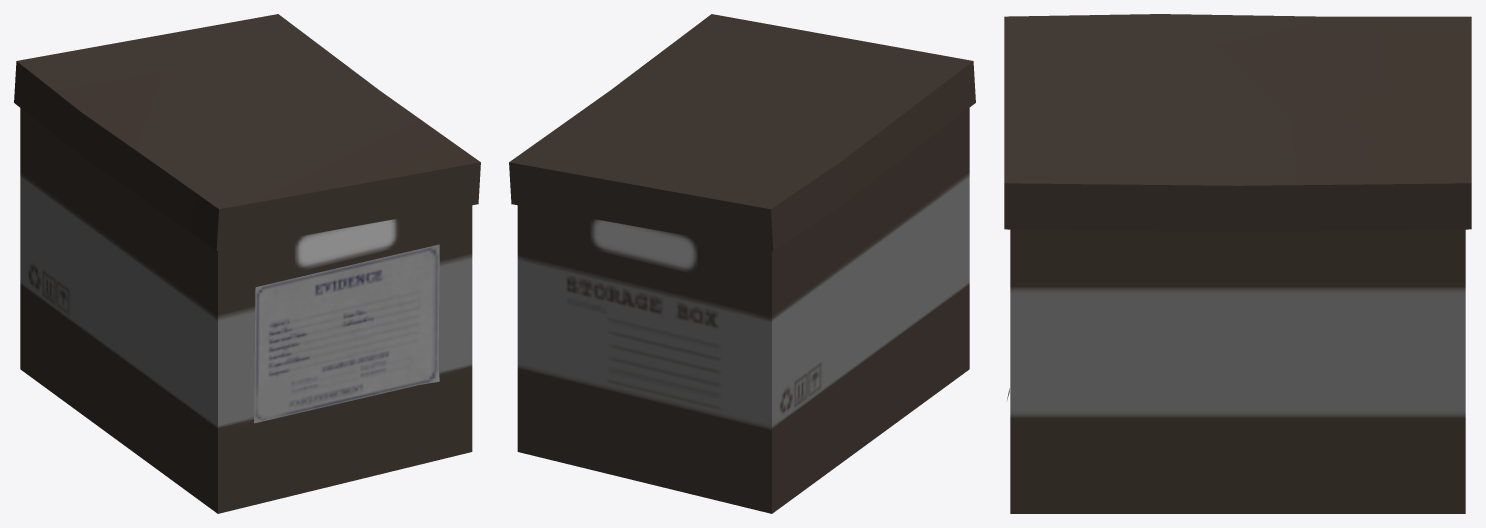
Rendered from FBX_BoxPortableA.fbx.
3 views of the same model, side by side, from view 1: azimuth 30°, elevation 25°; view 2: azimuth 150°, elevation 25°; view 3: azimuth 270°, elevation 25° (orthographic). The views are drawn at different scales.
Visible parts, largest first — view 1: SM_BoxPortableA; view 2: SM_BoxPortableA; view 3: SM_BoxPortableA.
Boxes of the visible parts, bbox=[...] form: SM_BoxPortableA: bbox=[14, 14, 480, 513]; SM_BoxPortableA: bbox=[509, 14, 975, 513]; SM_BoxPortableA: bbox=[1004, 14, 1471, 513].
Bounding box in the file's own units: 0.3042 × 0.3352 × 0.4.
